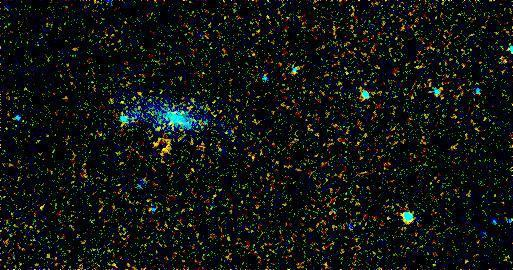star: (144, 136, 174, 166)
